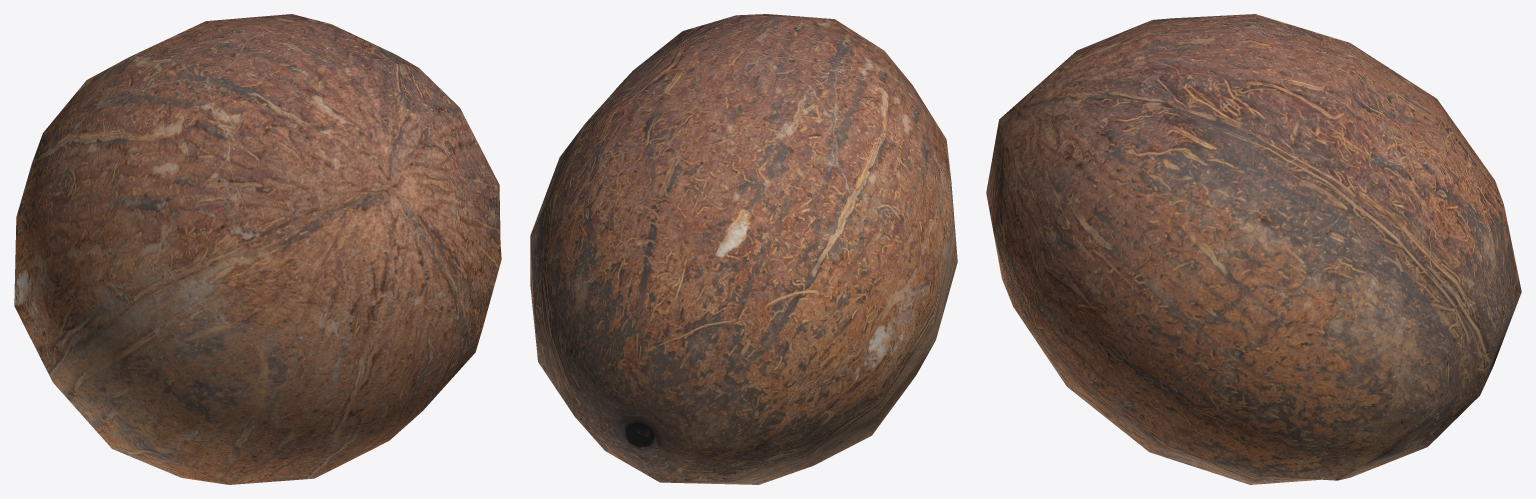
The model's file is low_poly_coconut_game_ready.glb.
The picture shows the model from 3 angles, left to right: view 1: azimuth 30°, elevation 25°; view 2: azimuth 150°, elevation 25°; view 3: azimuth 270°, elevation 25°; orthographic projection. The views are drawn at different scales.
Parts seen in each view (by area): view 1: Cube; view 2: Cube; view 3: Cube.
Part boxes in pixels (x1,y1,x2,y2): Cube: (14, 14, 501, 484); Cube: (530, 14, 957, 484); Cube: (986, 14, 1521, 484).
Size of the model in its own units: 0.9933 by 1.02 by 1.15.
Materials: 1 (1 with a texture image).
